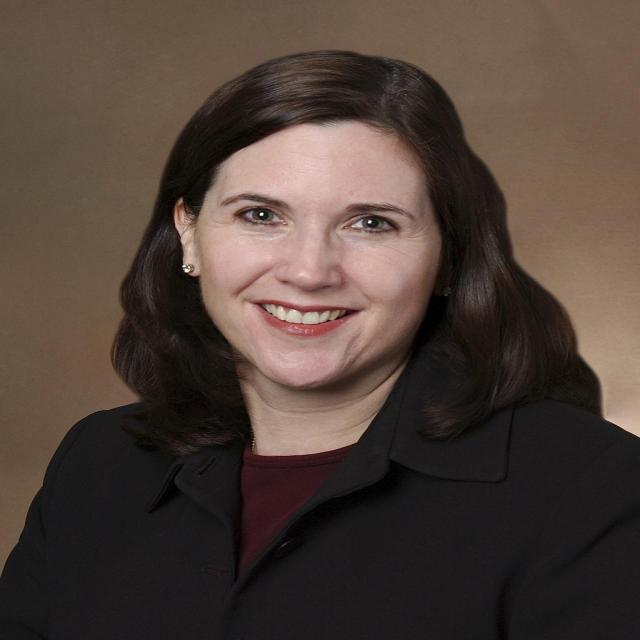Face: (166, 115, 457, 394)
